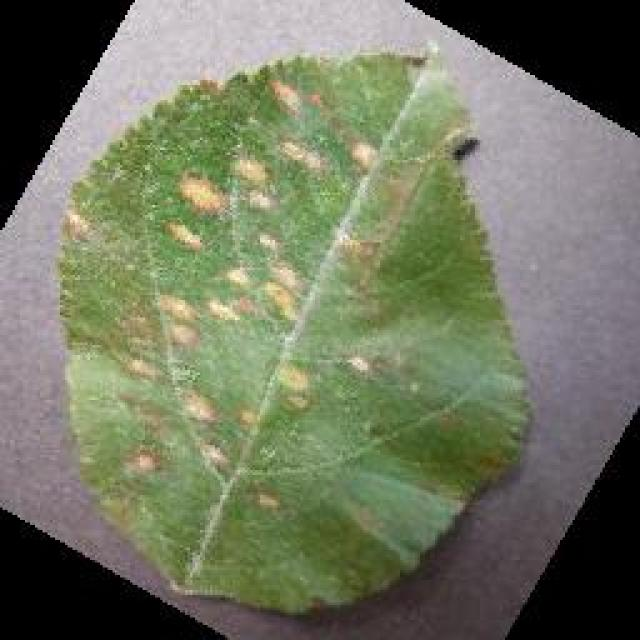apple cedar apple rust: (53, 40, 535, 618)
